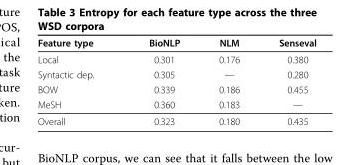table: (36, 36, 315, 126)
table column: (36, 36, 120, 126), (120, 36, 198, 126), (198, 36, 258, 126), (258, 36, 315, 126)
table column header: (36, 36, 315, 50)
table row: (36, 50, 315, 66), (36, 96, 315, 112), (36, 66, 315, 81), (36, 81, 315, 96), (36, 36, 315, 50), (36, 112, 315, 126)
